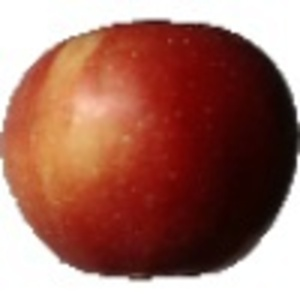maçã braeburn: (1, 19, 299, 282)
